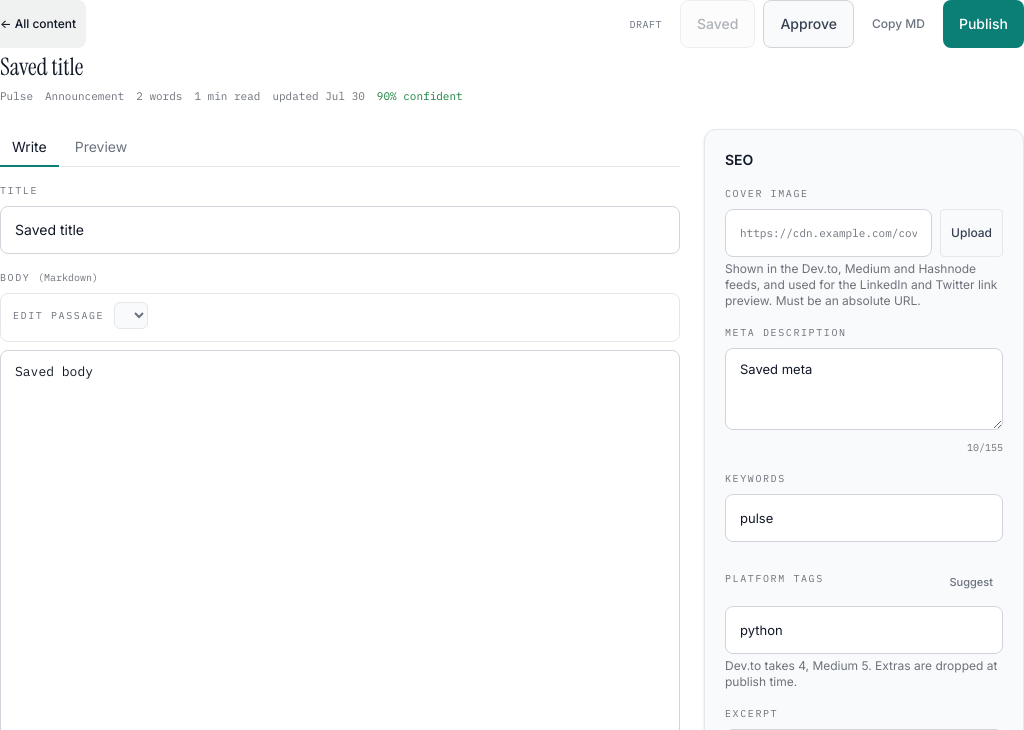
Test case: the publish dialog › still publishes when no suggestion can be had
Expected: the field showing "Saved title" is shown, [0, 206, 680, 254]
Click the button "Publish".
click(983, 24)  # box [943, 0, 1023, 48]
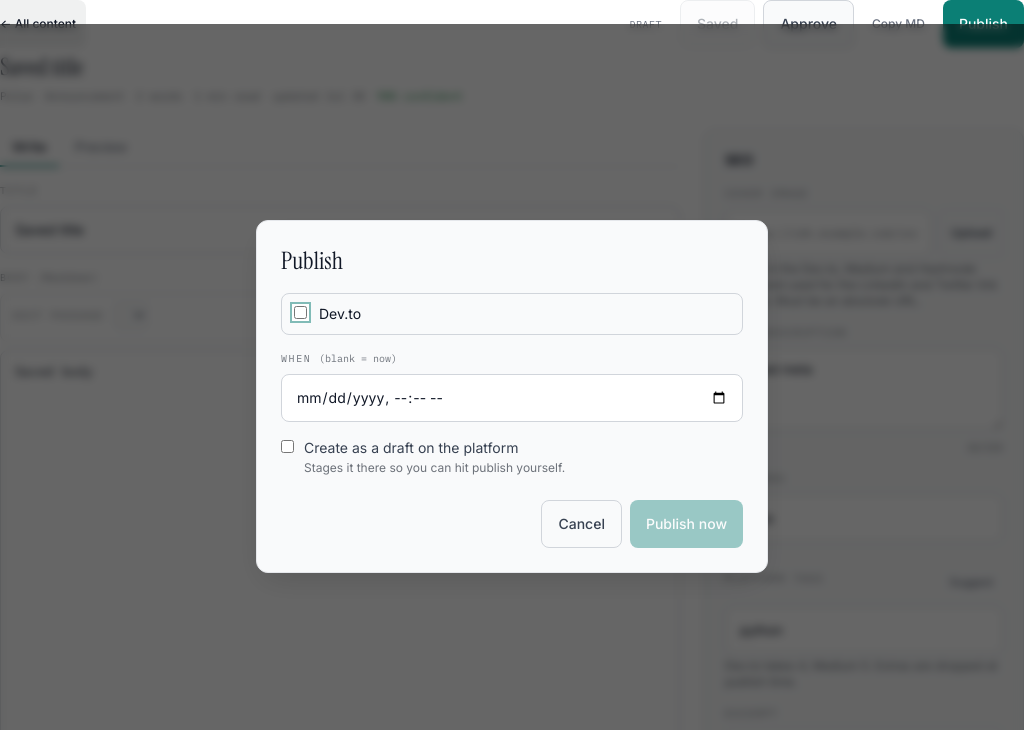
Expected: the heading "Publish" is shown, [281, 244, 343, 276]
Click the checkbox labelled "Dev.to".
click(300, 312)  # box [294, 306, 307, 318]
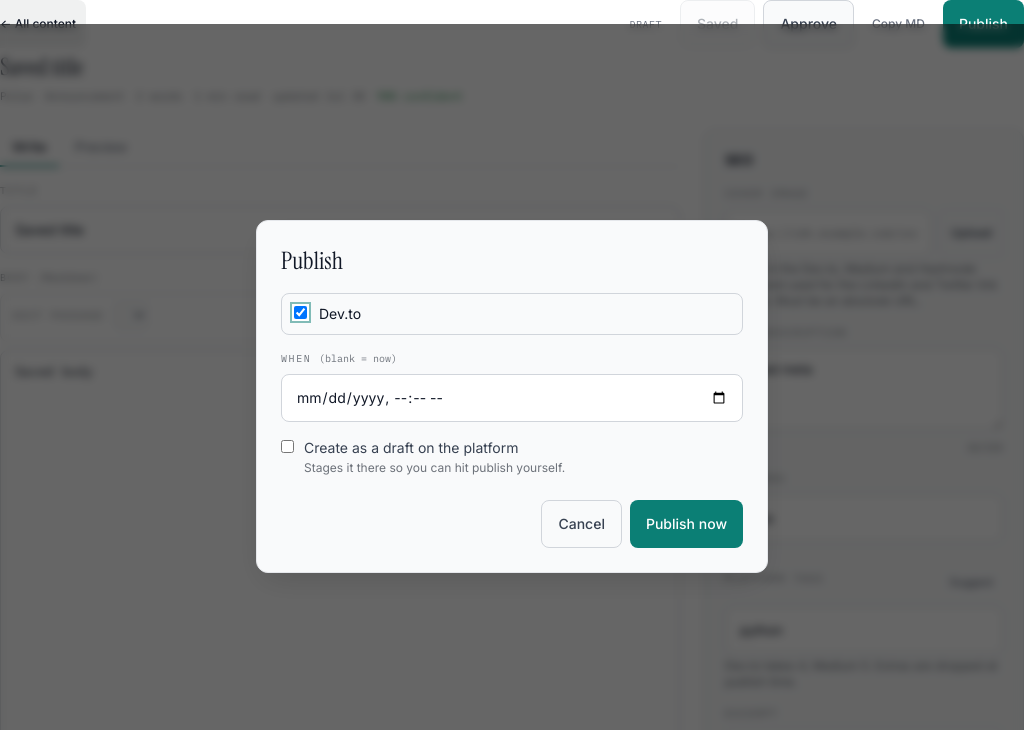
Expected: the button "Publish now" is enabled, [630, 500, 743, 548]
